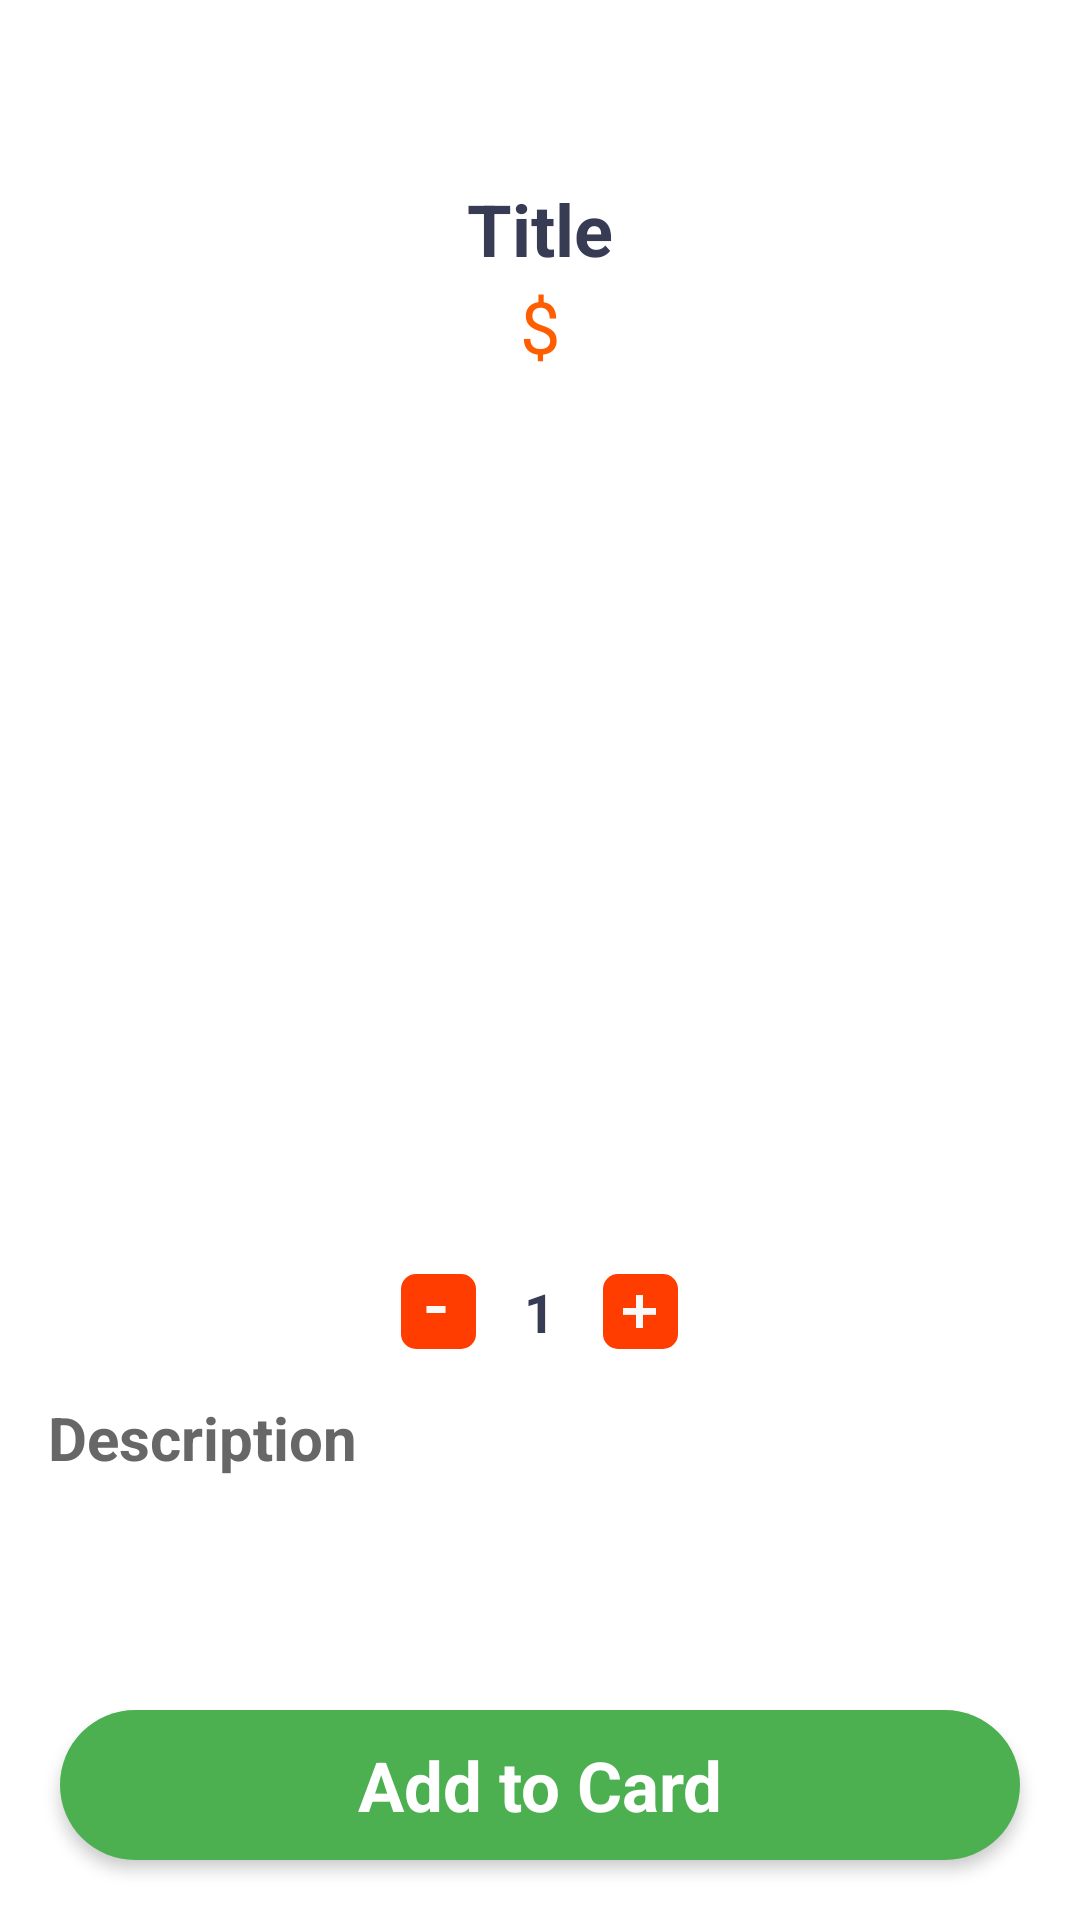

Where icons sit on this 1080 x 1920 app screen, as (x1, y1, x2, y2):
minus: (401, 1274, 476, 1349)
plus: (603, 1274, 678, 1349)
